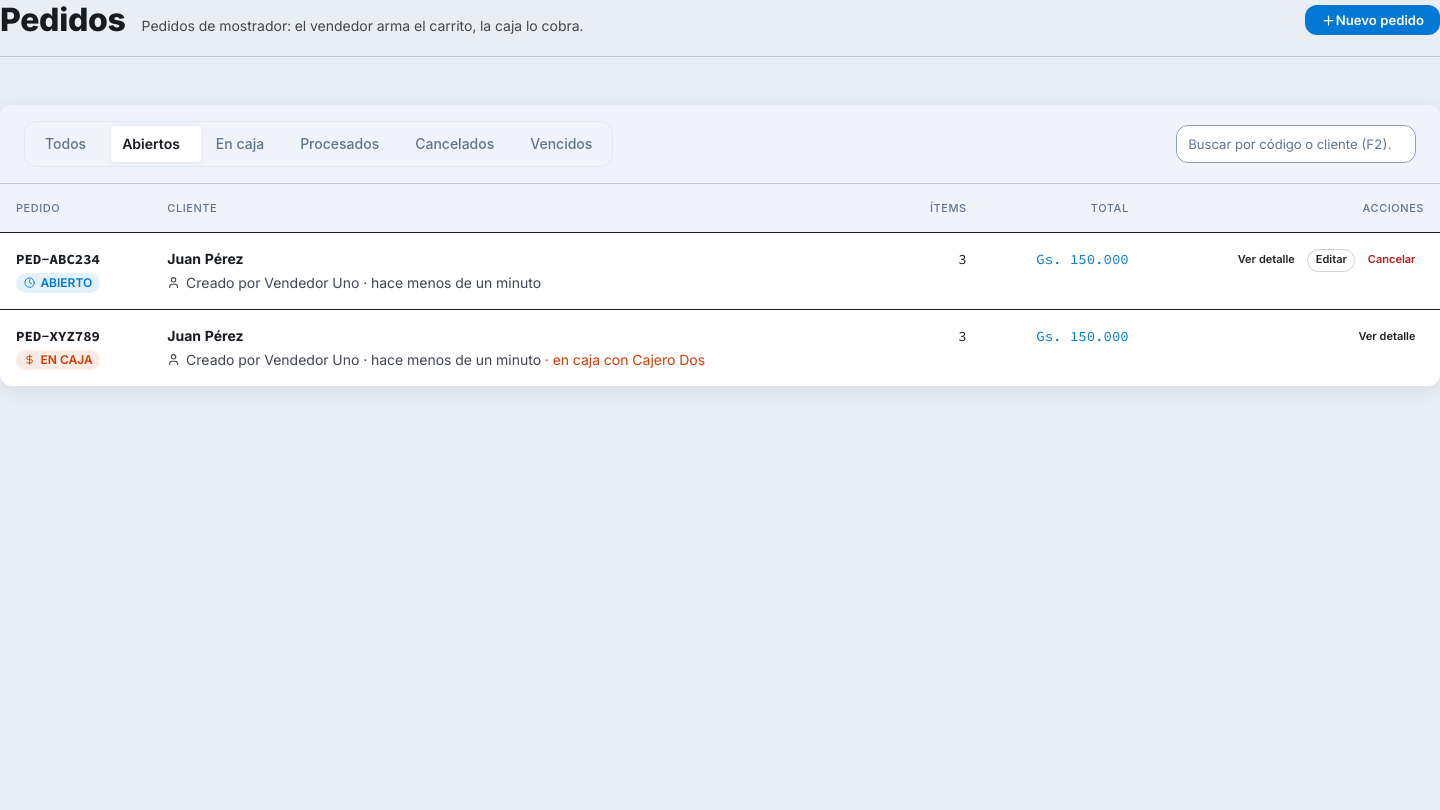
Scenario: OrderBuilder — dropmenu de unidades vendibles + carrito en tabla › un producto sin variantes se agrega con click en su fila
Click the button with test id "counterorders-new-button" at [1372, 20], box [1305,5,1439,35]
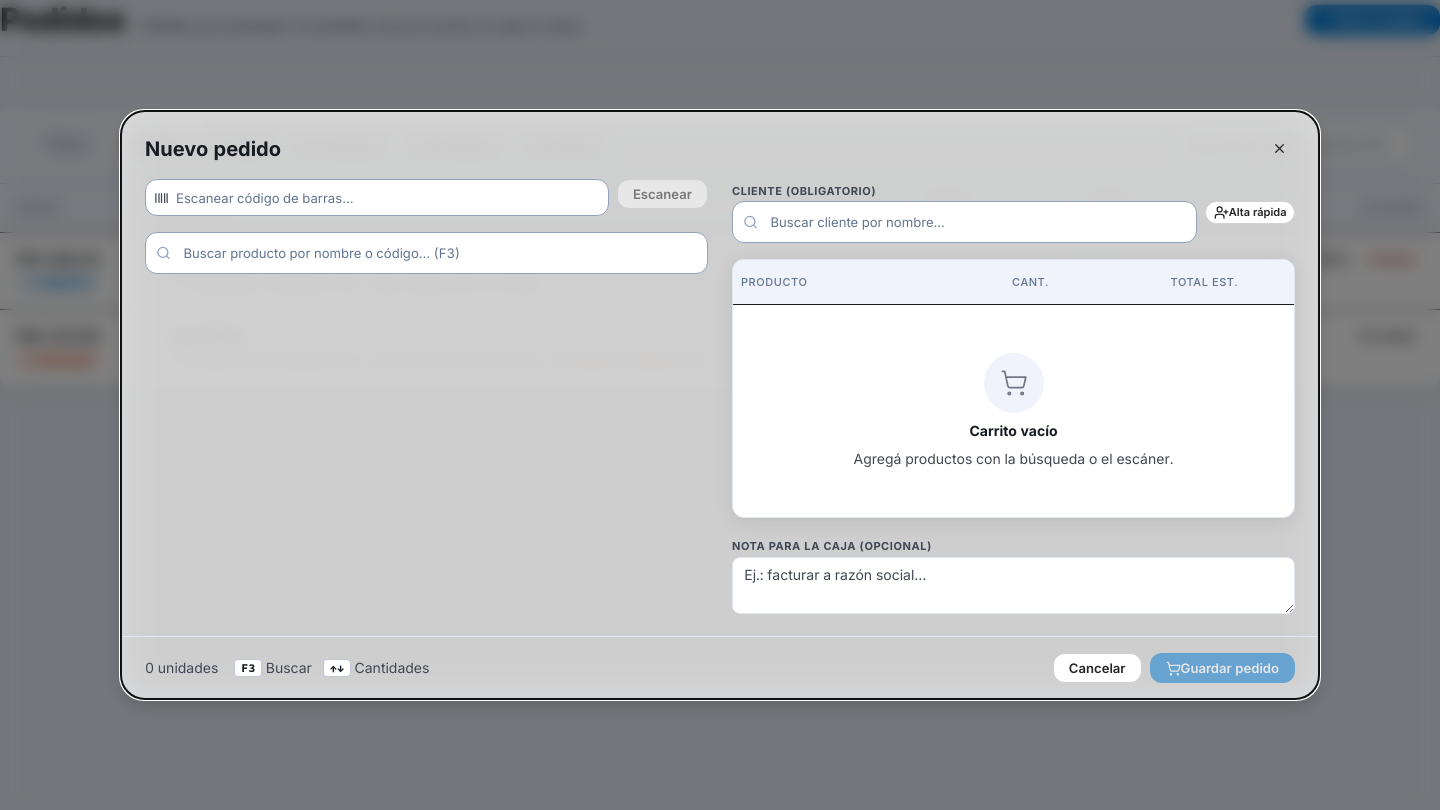
Type "sim" into the field with placeholder "Buscar producto por nombre o código… (F3)" at [426, 253], box [145,232,708,274]
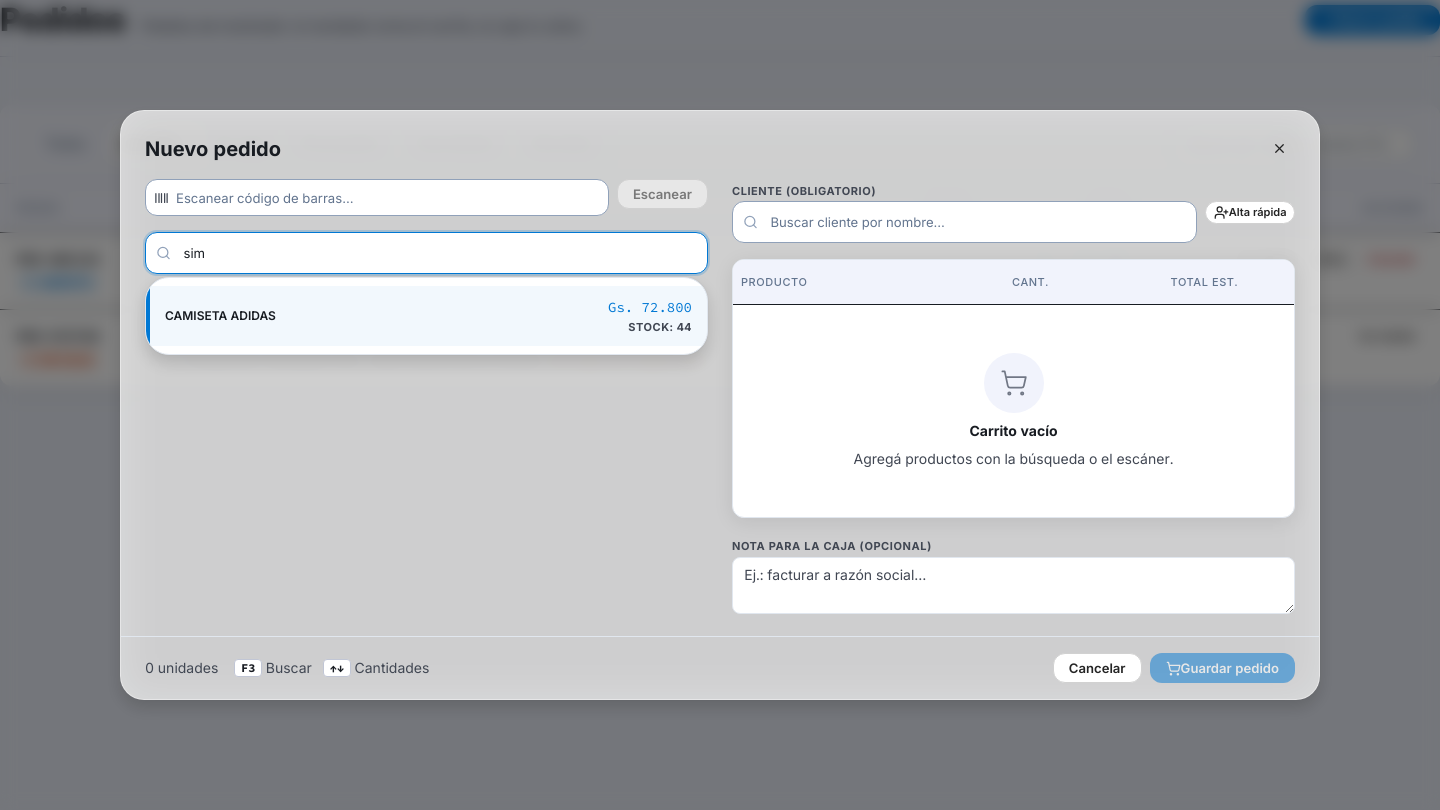
Click the button with test id "counterorder-pick-PROD-SIMPLE" at [220, 316], box [146,286,707,346]
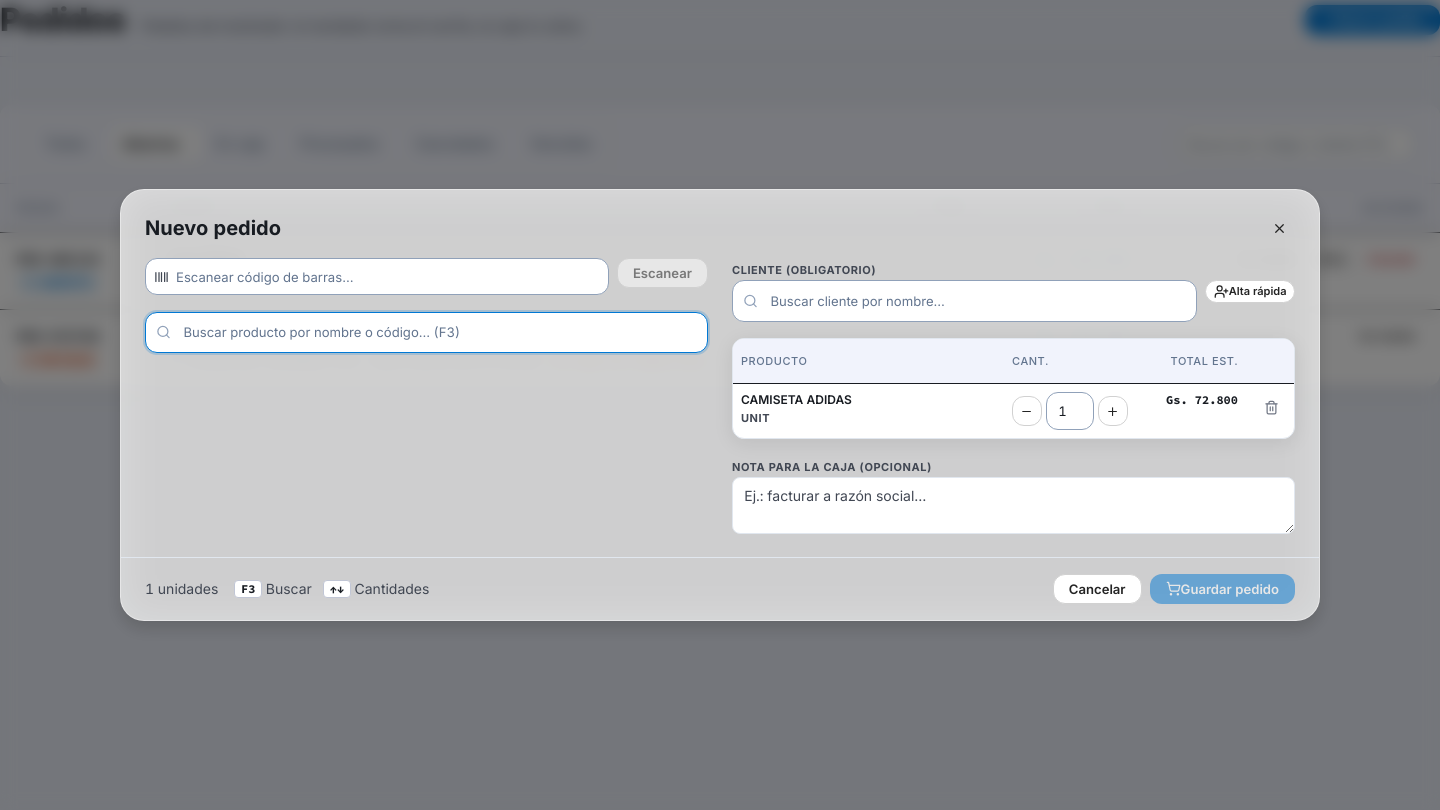
expect the table with test id "counterorder-builder-lines" shows "CAMISETA ADIDAS": met, box [741,392,852,407]
